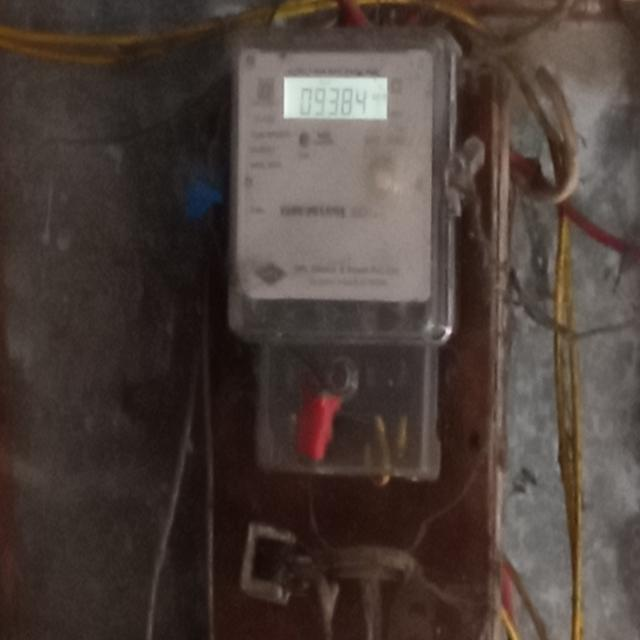display: (280, 74, 389, 125)
